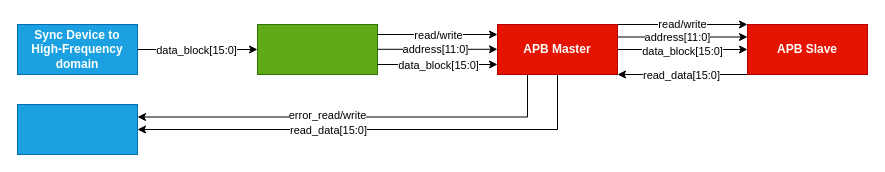
The diagram is 885 pixels wide and 172 high, and some of its shapes have lost their labels. Each missing label, with the centre of its shape:
"Addresser" belongs at [317,49].
"Sync Device to Low-Frequency domain" belongs at [77,129].
